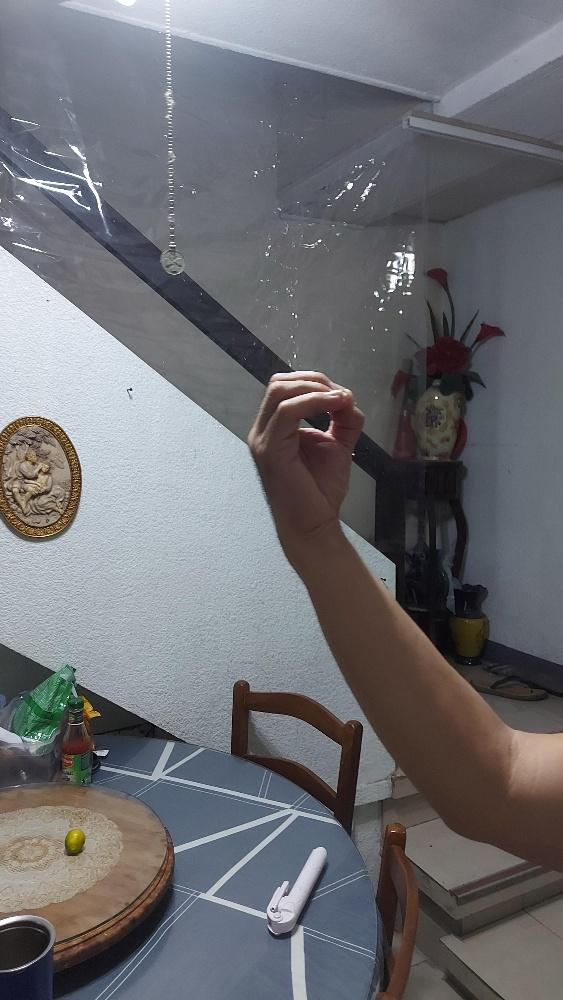o: (246, 369, 364, 537)
